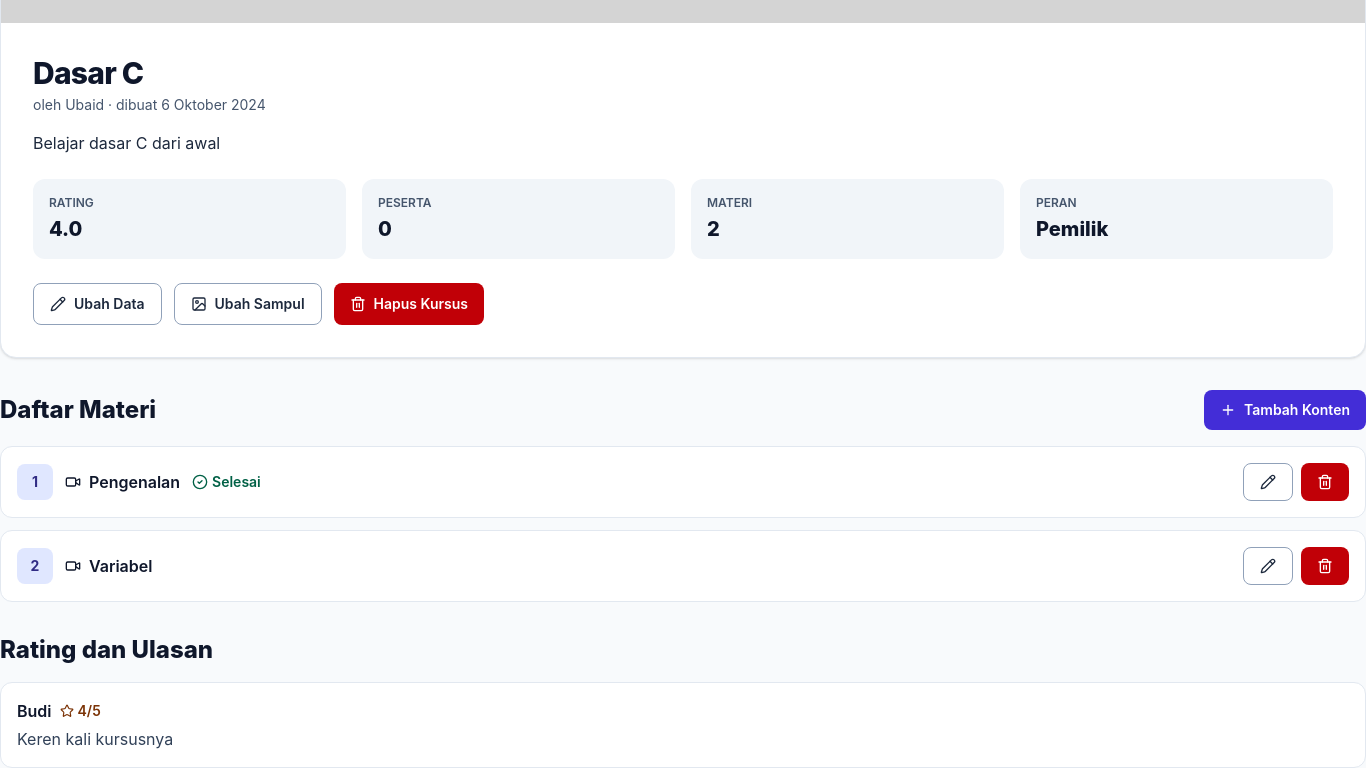
Test: DetailPage - pemilik › membuka modal ubah konten dengan data materi
(page scrolled)
Expected: the heading "Dasar C" is shown, x1=33 y1=54 x2=143 y2=90
Click the button named "Ubah konten Variabel".
click(1268, 566)  # box x1=1243 y1=546 x2=1293 y2=584
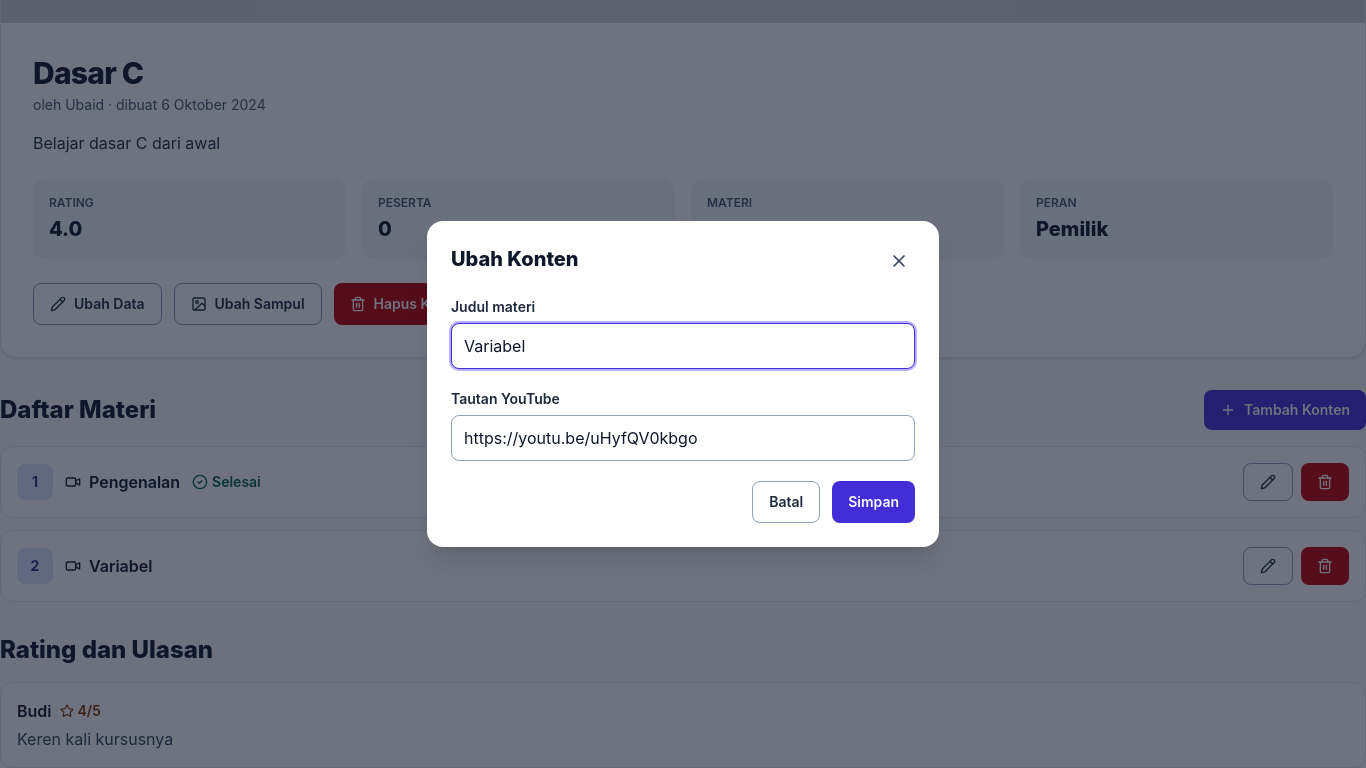
Now the field labelled "Judul materi" holds "Variabel", box x1=451 y1=323 x2=915 y2=369
